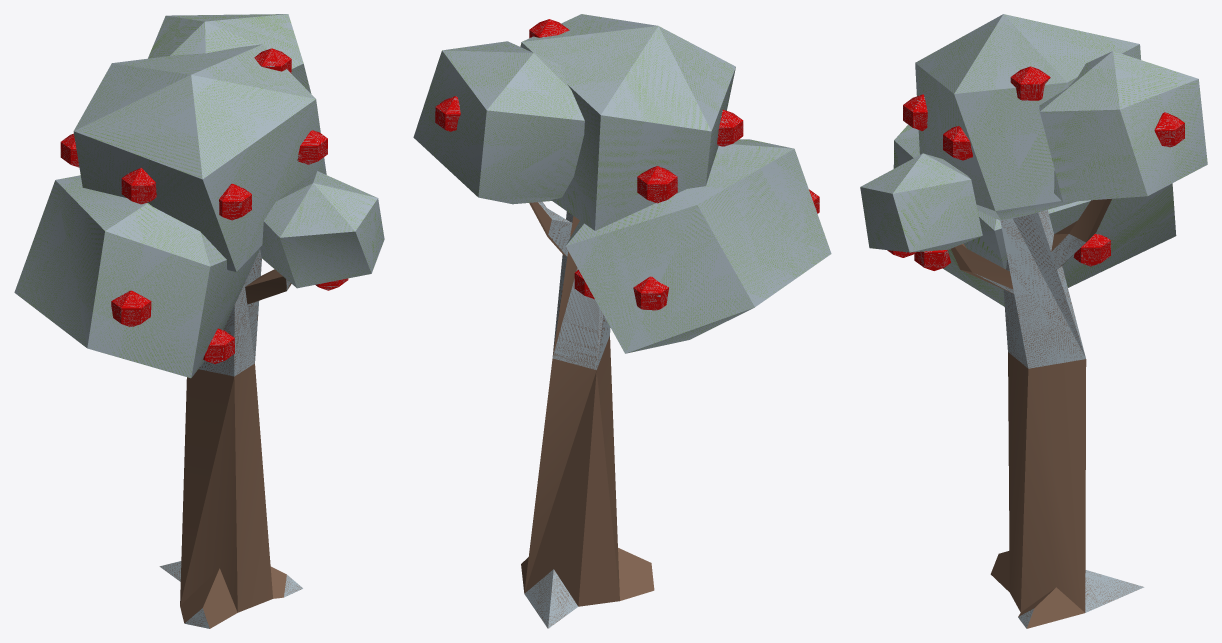
File: Tree_Apple_02.fbx
3 renders of one model, left to right at view 1: azimuth 30°, elevation 25°; view 2: azimuth 150°, elevation 25°; view 3: azimuth 270°, elevation 25°, orthographic.
Visible parts, largest first — view 1: Model; view 2: Model; view 3: Model.
Boxes of the visible parts, x1,y1,x2,y2 form: Model: (14, 14, 384, 628); Model: (413, 14, 831, 628); Model: (860, 14, 1207, 628).
Bounding box in the file's own units: 392 × 675 × 384.
